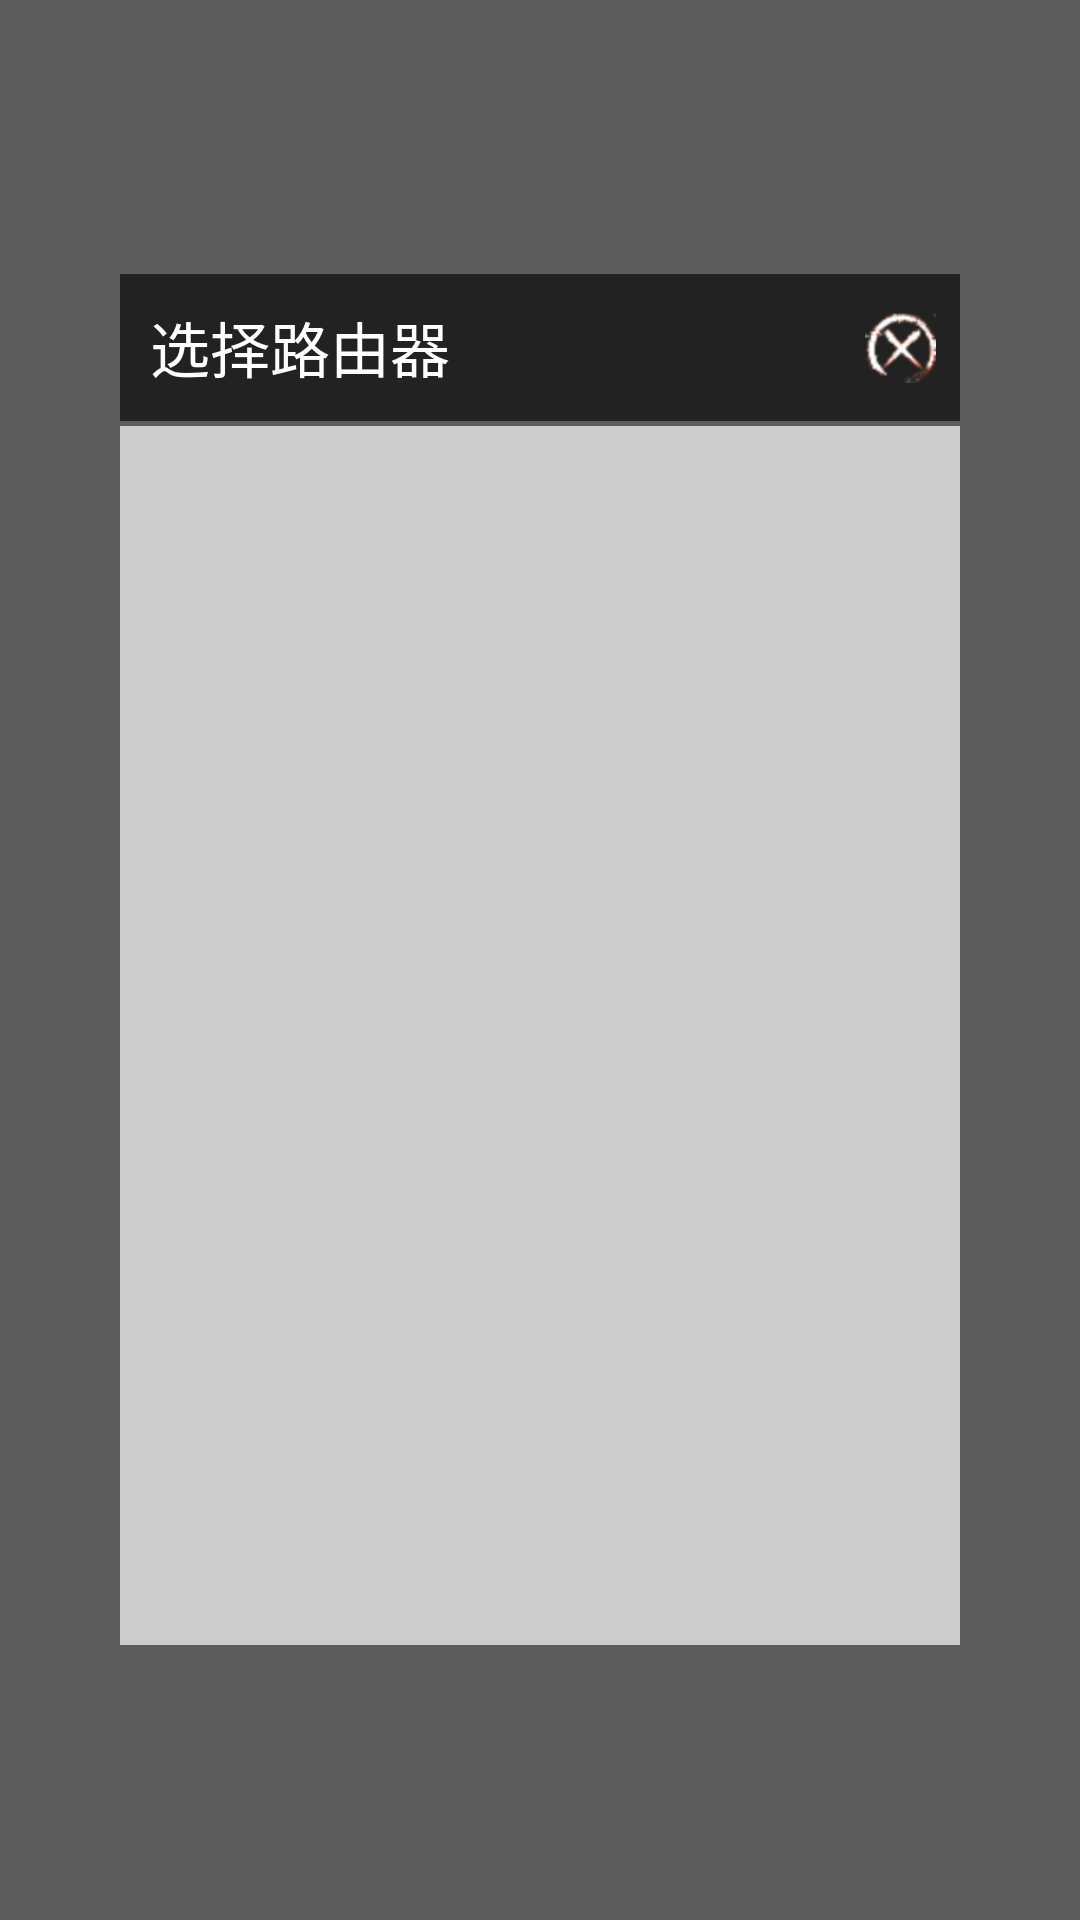

Locate icon controls on the screen. Image size 1080×1920, boxes as (x1, y1, x2, y2).
dismiss: (865, 313, 936, 383)
